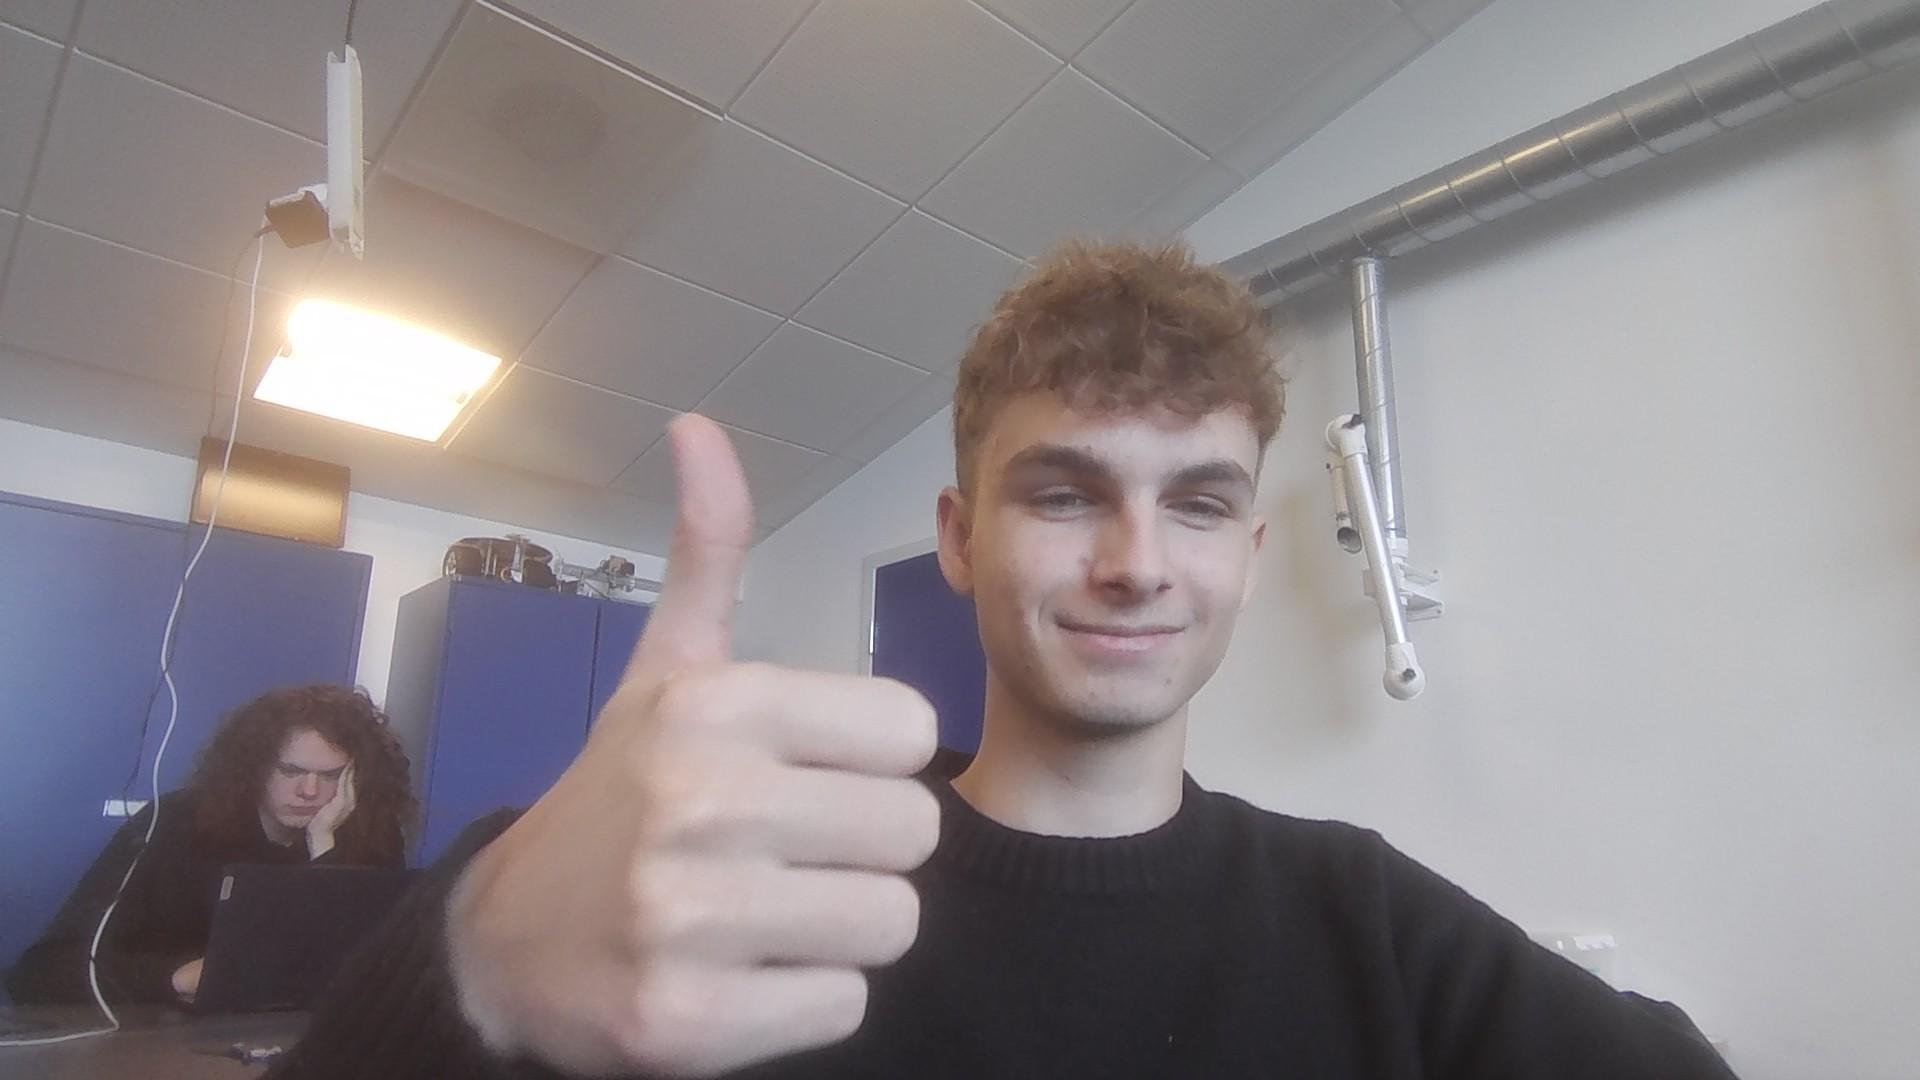thumbs up: (447, 411, 945, 1080)
